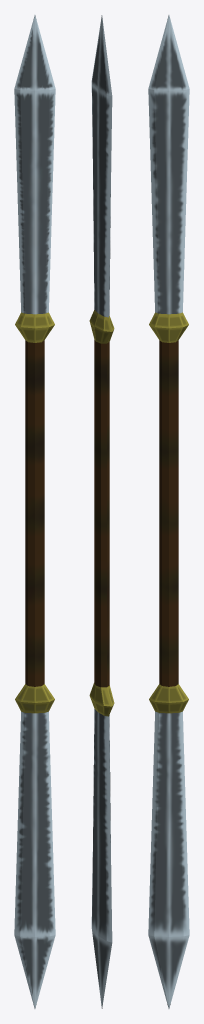
The model's file is DoubleBladeSword.fbx.
3 renders of one model, left to right at view 1: azimuth 90°, elevation 25°; view 2: azimuth 210°, elevation 25°; view 3: azimuth 270°, elevation 25°, orthographic.
Parts seen in each view (by area): view 1: Cylinder; view 2: Cylinder; view 3: Cylinder.
Part boxes in pixels (<box>): Cylinder: <box>14,15,55,1008</box>; Cylinder: <box>89,15,114,1008</box>; Cylinder: <box>148,15,189,1008</box>.
Size of the model in its own units: 0.0453 by 2.84 by 0.1068.
